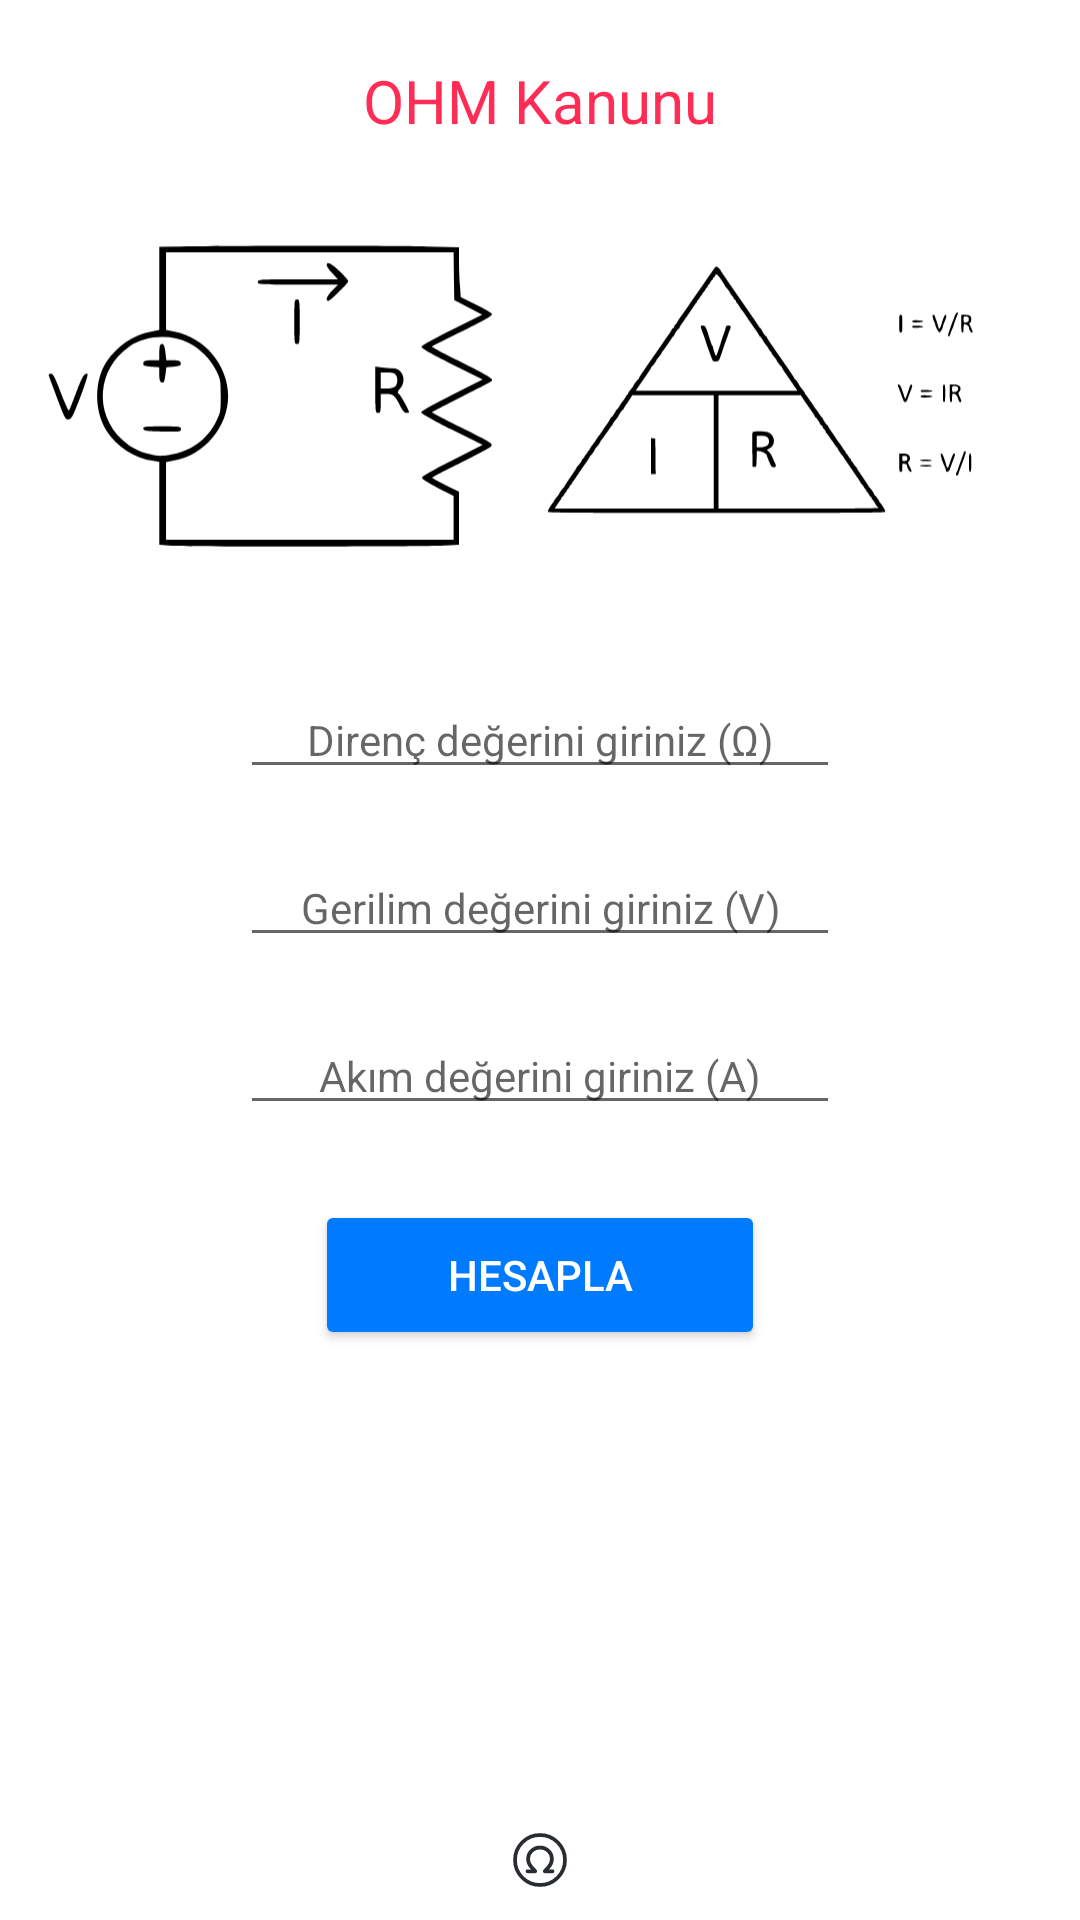

Named icons in this screenshot (1080×1920) and their centers, (x,y):
omegaicon: (540,1860)
